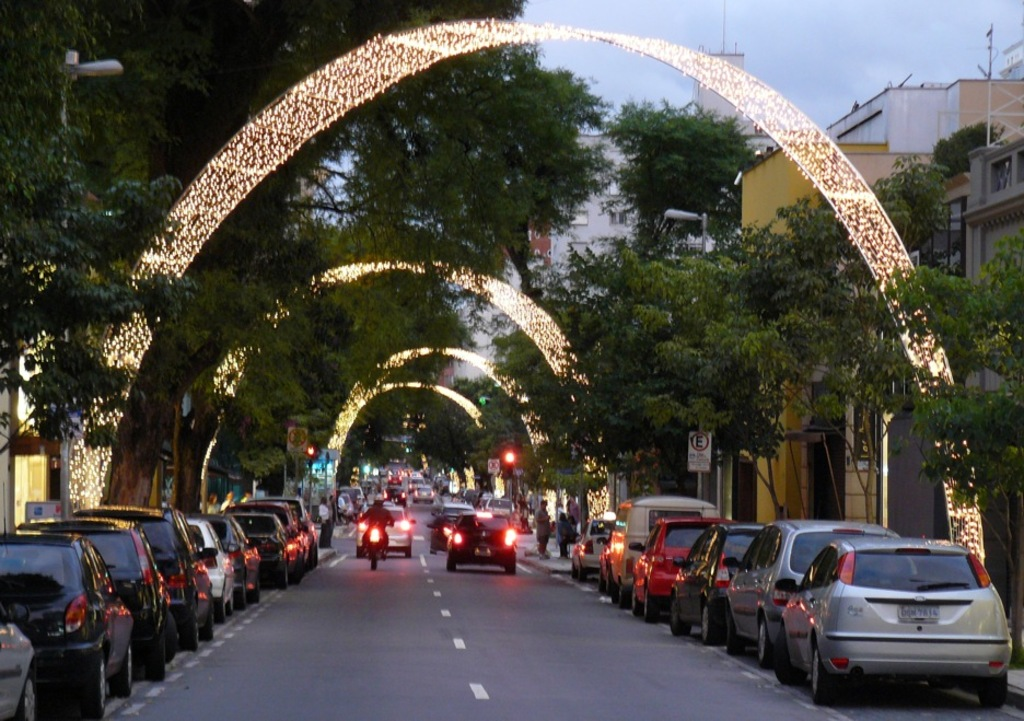Tree: (0, 0, 606, 516), (419, 245, 739, 508), (883, 229, 1022, 661), (746, 214, 905, 504), (599, 92, 752, 242), (868, 152, 932, 240), (940, 122, 999, 170)
